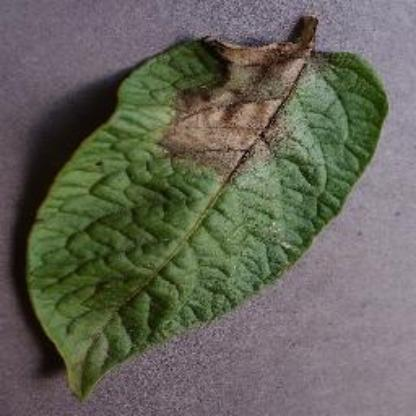Late-Blight: (22, 11, 394, 408)
